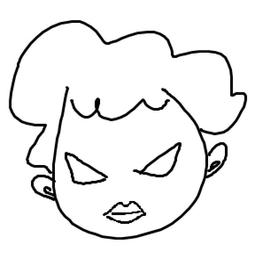cupid_mouth: (93, 196, 153, 227)
ear: (200, 138, 236, 183), (26, 173, 59, 206)
empty_eye: (131, 137, 191, 181), (62, 151, 112, 187)
